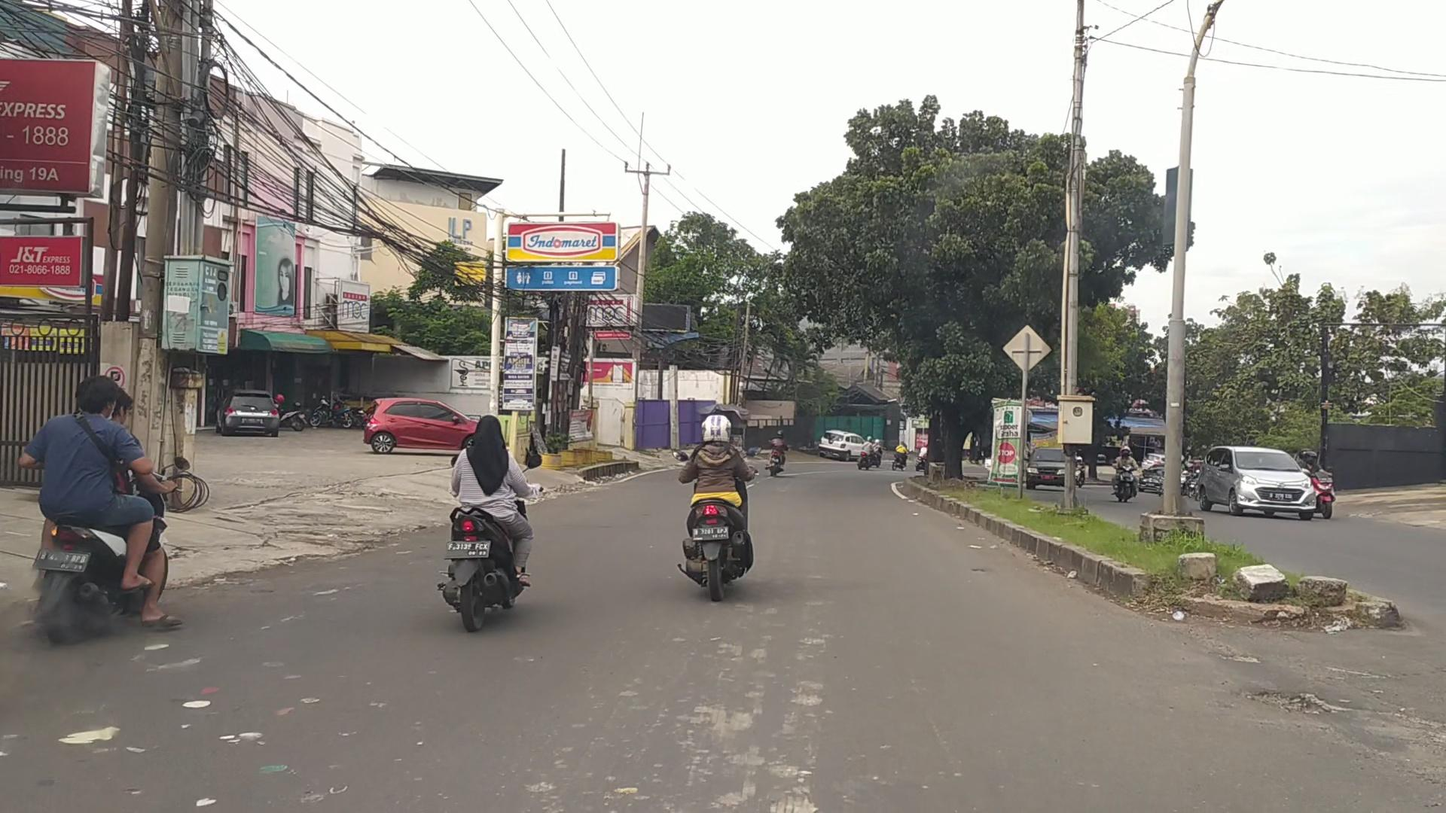pothole: (1243, 688, 1333, 715), (1212, 653, 1261, 666)
